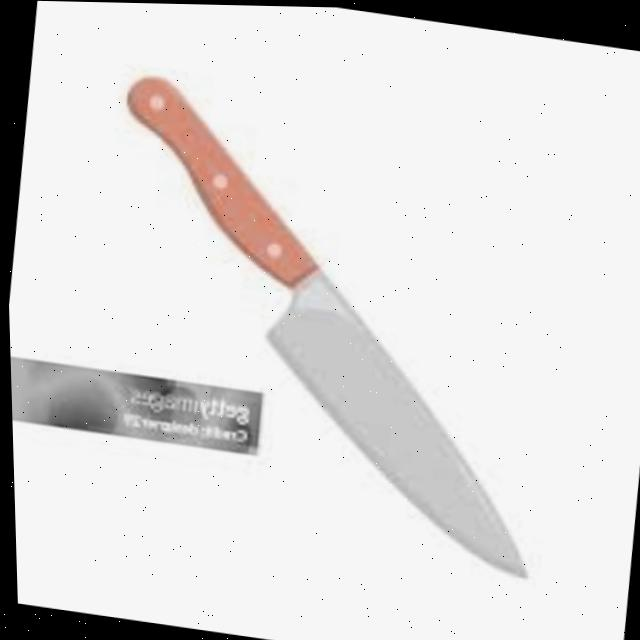Knife: (75, 68, 581, 577)
